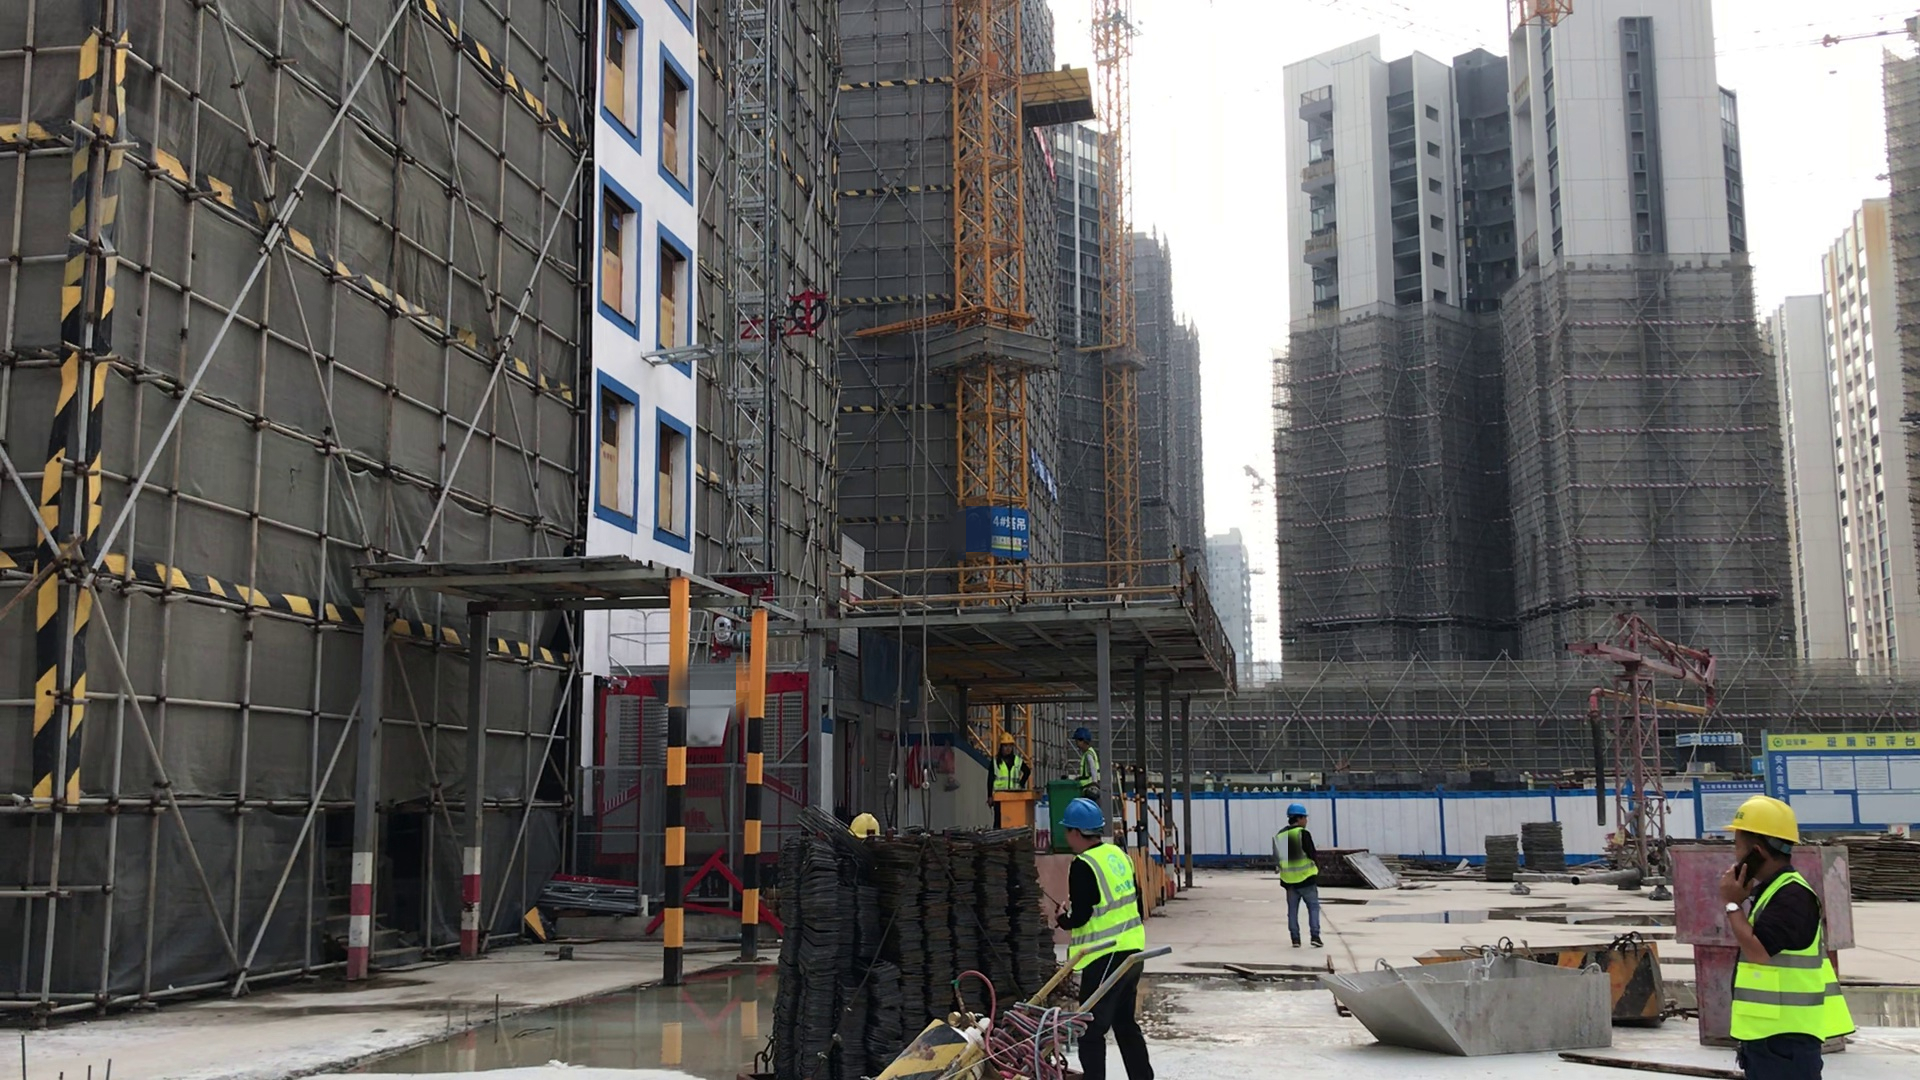board: (1847, 829, 1920, 902), (1522, 817, 1581, 877), (1482, 831, 1521, 882)
fence: (1104, 764, 1194, 874)
helmet: (1727, 794, 1808, 849), (1063, 798, 1106, 835), (852, 805, 880, 840), (1287, 803, 1311, 821), (1075, 728, 1089, 744), (999, 735, 1018, 746)
hopper: (1329, 948, 1627, 1066), (1572, 935, 1667, 1031)
person: (1721, 780, 1862, 1080), (1052, 794, 1165, 1080), (1269, 802, 1330, 947), (981, 732, 1031, 792), (1073, 726, 1101, 794)
vest: (1733, 878, 1855, 1046), (1065, 847, 1149, 968), (1275, 826, 1321, 894), (997, 752, 1023, 793), (1079, 750, 1103, 792)
